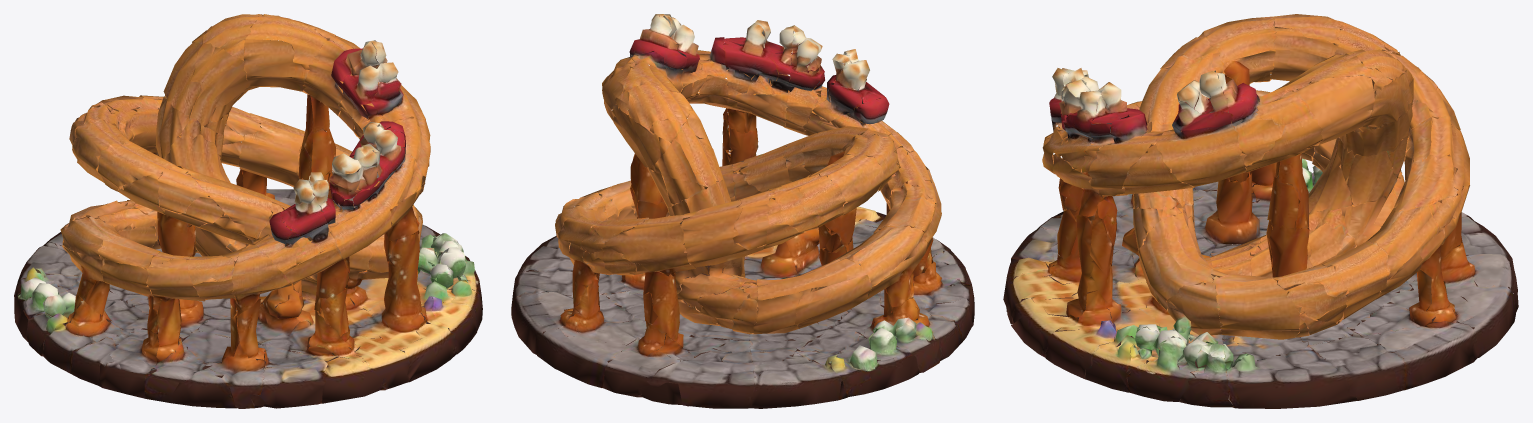
File: ride-roller-coaster-churro.glb
The picture shows the model from 3 angles, left to right: view 1: azimuth 30°, elevation 25°; view 2: azimuth 150°, elevation 25°; view 3: azimuth 270°, elevation 25°; orthographic projection. The views are drawn at different scales.
Visible parts, largest first — view 1: Mesh_0; view 2: Mesh_0; view 3: Mesh_0.
Boxes of the visible parts, x1,y1,x2,y2 form: Mesh_0: [14, 14, 482, 408]; Mesh_0: [511, 14, 974, 408]; Mesh_0: [1003, 14, 1518, 408].
Bounding box in the file's own units: 1.89 × 1.16 × 1.9.
Materials: 1 (1 with a texture image).
